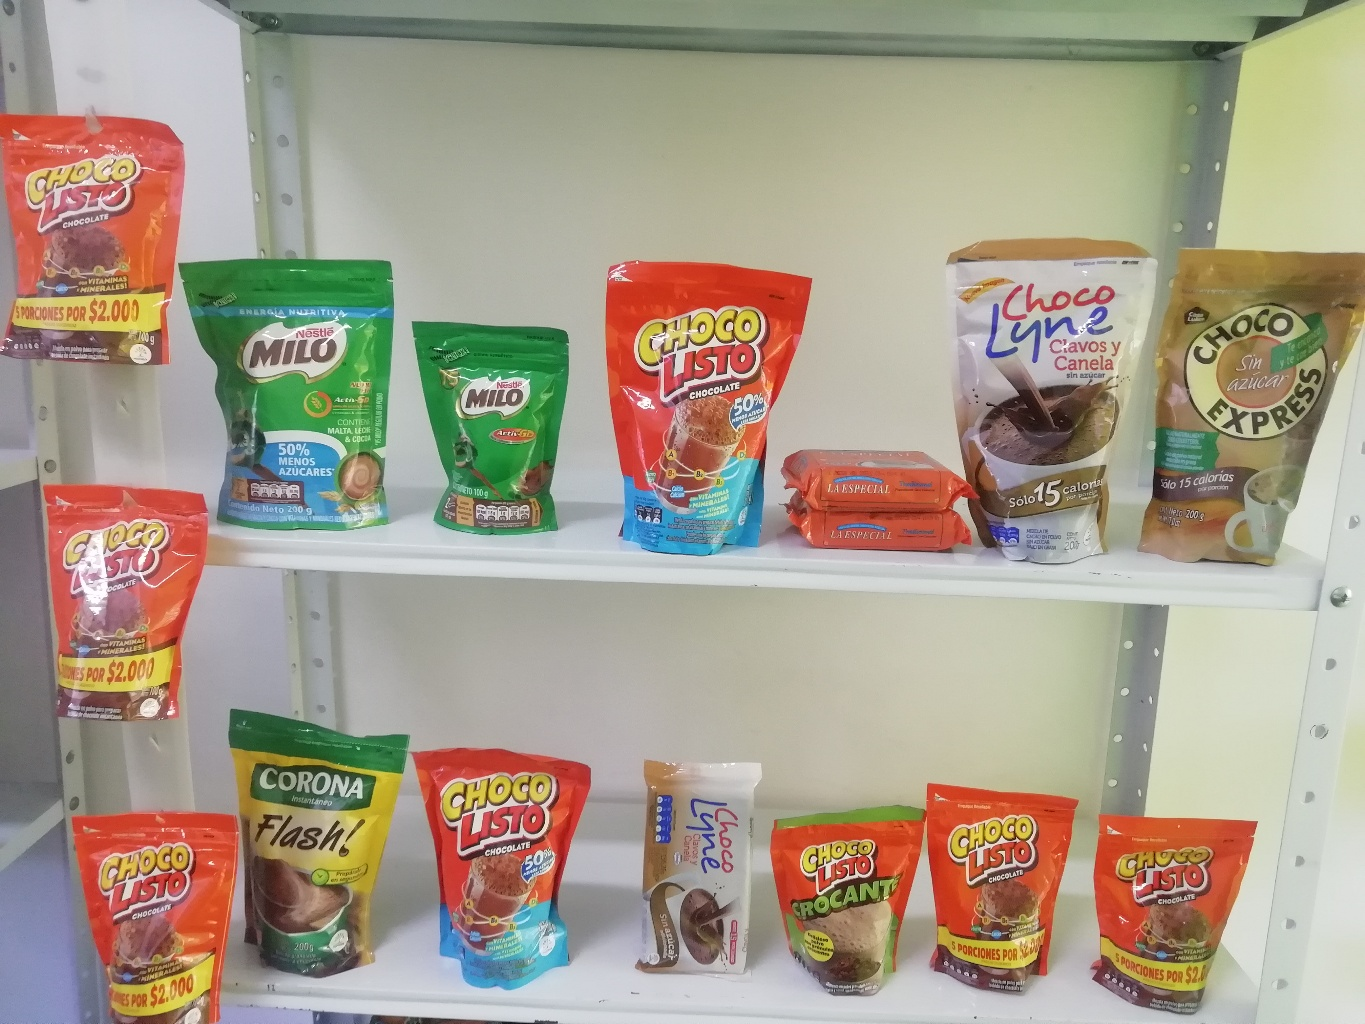COL0170102DYP10000: (768, 803, 930, 999)
COL0170103DYP10000: (0, 113, 186, 368)
COL0170104DYP20000: (608, 257, 813, 558)
COL0170203DYP10000: (411, 317, 572, 534)
COL0170205DYP20000: (177, 259, 394, 531)
